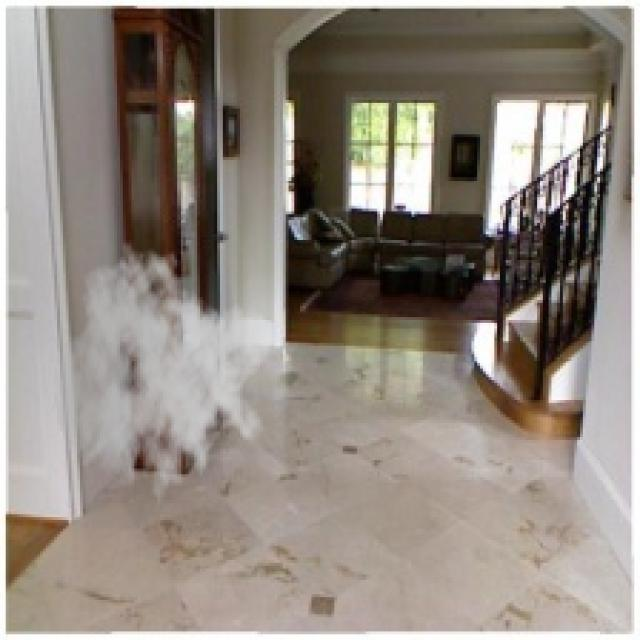Smoke: (51, 240, 272, 520)
